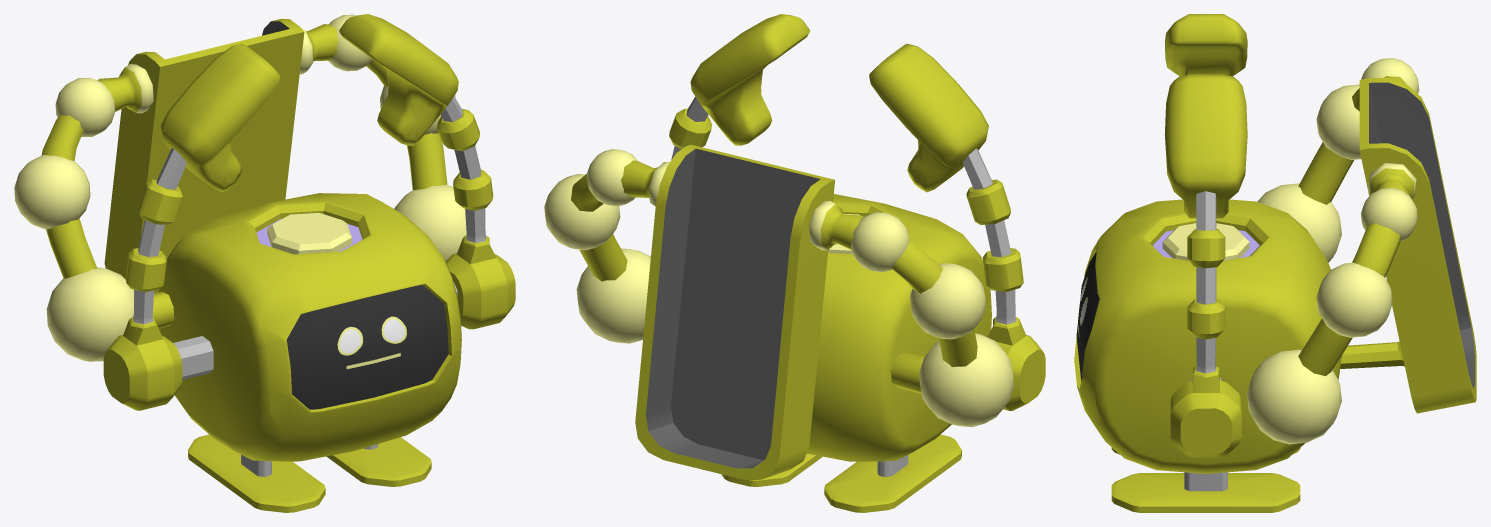
The model's file is Chara_01Y.fbx.
3 renders of one model, left to right at view 1: azimuth 30°, elevation 25°; view 2: azimuth 150°, elevation 25°; view 3: azimuth 270°, elevation 25°, orthographic.
Parts seen in each view (by area): view 1: Face, Case, pCube48 (×2), R_Hand, pCube42 (×2), Tube (×2), L_Hand, R_Leg, pCube41, pCube40 (×2), L_Leg, pCube47; view 2: Case, Face, pCube42 (×2), R_Hand, pCube48 (×2), Tube (×2), L_Hand, pCube41 (×2), R_Leg, pCube40 (×2), L_Leg; view 3: Face, Case, pCube48, L_Hand, pCube42 (×2), L_Leg, pCube41 (×2), Tube (×2), R_Hand, pCube40 (×2), Tail.
Part boxes in pixels (x1=…): Face: x1=159, y1=193, x2=461, y2=461; Case: x1=104, y1=19, x2=304, y2=292; pCube48 (×2): x1=103, y1=96, x2=515, y2=410; R_Hand: x1=160, y1=43, x2=279, y2=192; pCube42 (×2): x1=46, y1=185, x2=466, y2=361; Tube (×2): x1=41, y1=24, x2=447, y2=328; L_Hand: x1=339, y1=14, x2=458, y2=145; R_Leg: x1=188, y1=434, x2=325, y2=512; pCube41: x1=14, y1=155, x2=90, y2=229; pCube40 (×2): x1=55, y1=14, x2=371, y2=136; L_Leg: x1=326, y1=437, x2=431, y2=486; pCube47: x1=173, y1=336, x2=213, y2=379; Case: x1=635, y1=144, x2=834, y2=479; Face: x1=806, y1=194, x2=991, y2=461; pCube42 (×2): x1=576, y1=248, x2=1014, y2=426; R_Hand: x1=869, y1=43, x2=988, y2=192; pCube48 (×2): x1=650, y1=96, x2=1045, y2=410; Tube (×2): x1=571, y1=160, x2=977, y2=393; L_Hand: x1=690, y1=14, x2=809, y2=145; pCube41 (×2): x1=544, y1=174, x2=985, y2=339; R_Leg: x1=824, y1=434, x2=961, y2=512; pCube40 (×2): x1=587, y1=149, x2=909, y2=272; L_Leg: x1=721, y1=453, x2=822, y2=486; Face: x1=1074, y1=199, x2=1341, y2=473; Case: x1=1359, y1=78, x2=1476, y2=413; pCube48: x1=1170, y1=191, x2=1242, y2=457; L_Hand: x1=1164, y1=74, x2=1247, y2=218; pCube42 (×2): x1=1247, y1=183, x2=1341, y2=444; L_Leg: x1=1111, y1=472, x2=1300, y2=512; pCube41 (×2): x1=1316, y1=84, x2=1392, y2=337; Tube (×2): x1=1298, y1=76, x2=1416, y2=376; R_Hand: x1=1165, y1=14, x2=1247, y2=76; pCube40 (×2): x1=1359, y1=58, x2=1419, y2=241; Tail: x1=1340, y1=341, x2=1404, y2=368.
Size of the model in its own units: 208 by 196 by 168.
